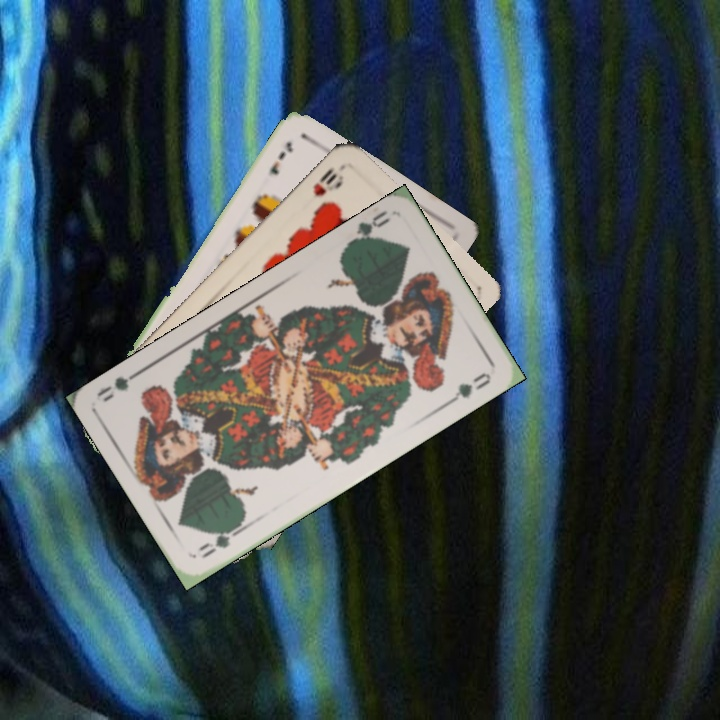E7: (265, 137, 296, 178)
GO: (194, 517, 247, 562), (342, 206, 393, 249)
H10: (309, 162, 346, 199)
